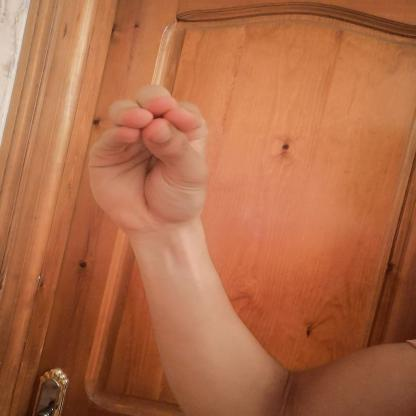HA: (66, 71, 235, 245)
